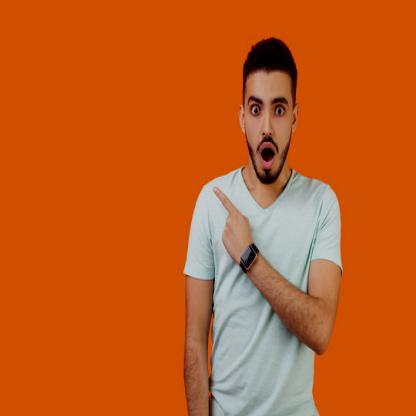Right: (210, 174, 265, 280)
